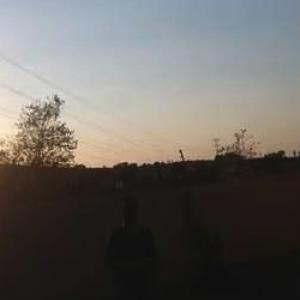follow: (98, 187, 167, 299)
